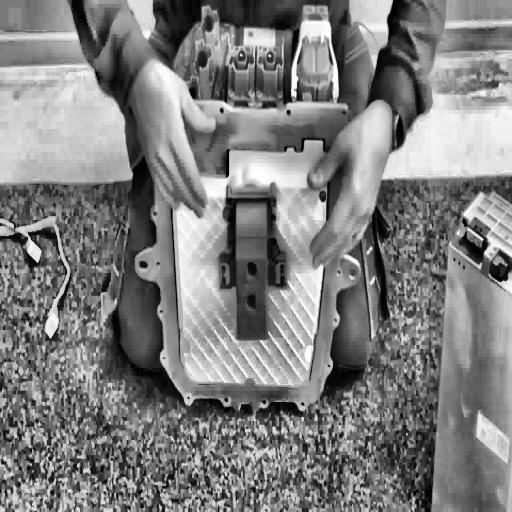bms_unit: (139, 0, 363, 420)
connector: (213, 180, 292, 348)
